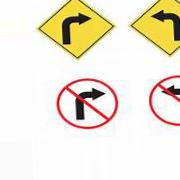right: (38, 1, 117, 61)
